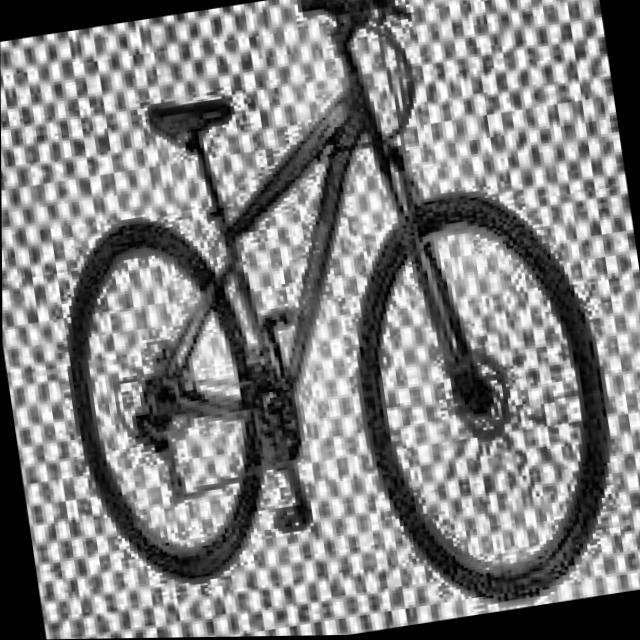bike: (15, 0, 640, 640)
